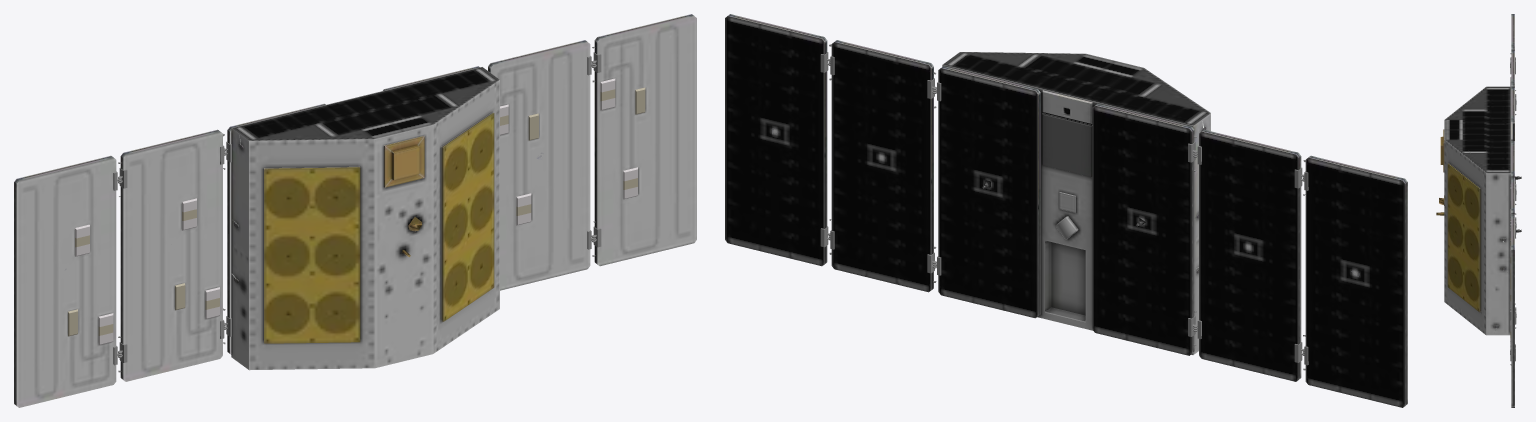
Rendered from cyclone-global-navigation-satellite-system-cygns.glb.
The picture shows the model from 3 angles, left to right: view 1: azimuth 30°, elevation 25°; view 2: azimuth 150°, elevation 25°; view 3: azimuth 270°, elevation 25°; orthographic projection. The views are drawn at different scales.
Parts seen in each view (by area): view 1: BUS, antenna_screws; view 2: BUS; view 3: BUS, antenna_screws.
Boxes of the visible parts, left/top/right/bottom form: BUS: left=14, top=14, right=696, bottom=407; antenna_screws: left=68, top=78, right=645, bottom=345; BUS: left=725, top=14, right=1407, bottom=407; BUS: left=1436, top=14, right=1521, bottom=407; antenna_screws: left=1510, top=77, right=1511, bottom=344.
Size of the model in its own units: 1.59 by 0.512 by 0.2441.
Materials: 3 (3 with a texture image).
